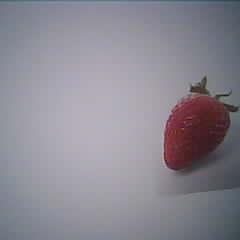straw-ripe: (164, 95, 230, 169)
